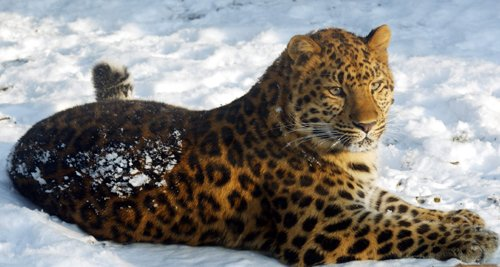amur_leopard: (14, 17, 496, 264)
